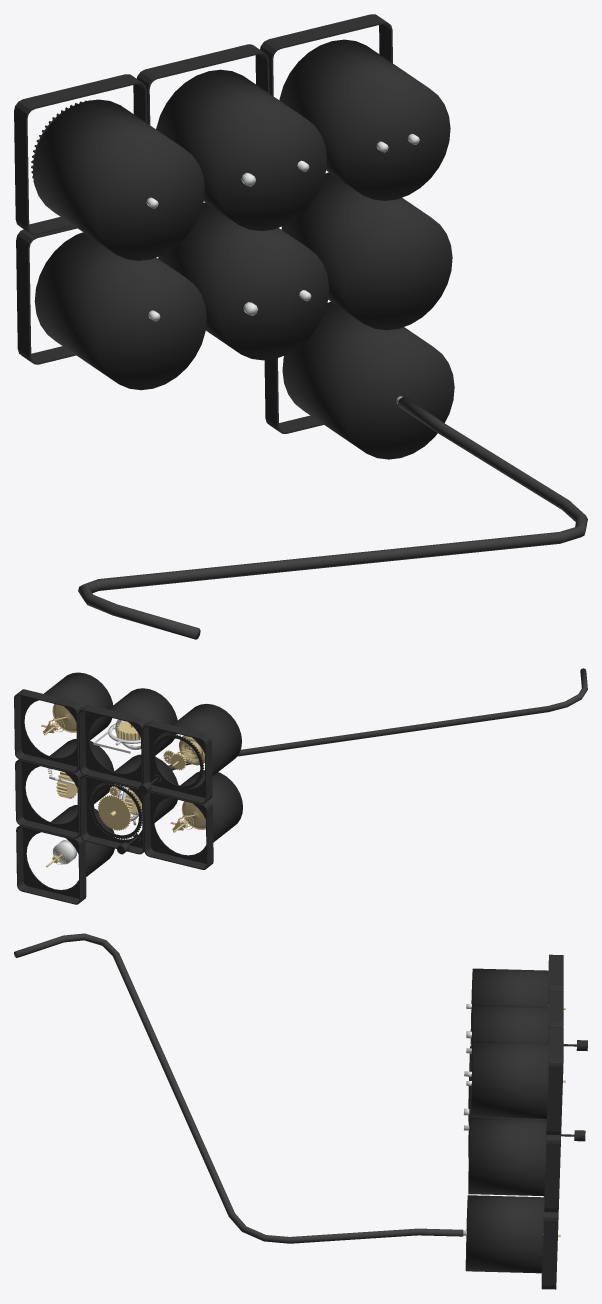
Rendered from INSTRUMENTS.glb.
The picture shows the model from 3 angles, top to bottom: view 1: azimuth 30°, elevation 25°; view 2: azimuth 150°, elevation 25°; view 3: azimuth 270°, elevation 25°; orthographic projection. The views are drawn at different scales.
Parts seen in each view (by area): view 1: PANEL.ALT.case, PANEL.VSI.case, PANEL.ASI.case, PANEL.AI.case, PANEL.TACH.case, PANEL.TC.case, PANEL.DG.case, PANEL.TACH.drive_cable; view 2: PANEL.ALT.case, PANEL.ASI.case, PANEL.VSI.case, PANEL.AI.case, PANEL.TACH.case, PANEL.TC.case, PANEL.DG.case, PANEL.TACH.drive_cable, PANEL.DG.card_gears, PANEL.ALT.baro_adjust, PANEL.DG.setting_knob, PANEL.ASI.capsule (+5 smaller); view 3: PANEL.ASI.case, PANEL.TACH.case, PANEL.TC.case, PANEL.TACH.drive_cable, PANEL.AI.case, PANEL.ALT.case.
Part boxes in pixels (left/top/right/bottom): PANEL.ALT.case: left=14, top=74, right=204, bottom=260; PANEL.VSI.case: left=16, top=226, right=206, bottom=390; PANEL.ASI.case: left=260, top=14, right=450, bottom=200; PANEL.AI.case: left=136, top=44, right=326, bottom=230; PANEL.TACH.case: left=264, top=301, right=454, bottom=459; PANEL.TC.case: left=281, top=172, right=452, bottom=330; PANEL.DG.case: left=158, top=202, right=328, bottom=360; PANEL.TACH.drive_cable: left=78, top=397, right=587, bottom=639; PANEL.ALT.case: left=142, top=703, right=241, bottom=803; PANEL.ASI.case: left=14, top=672, right=113, bottom=772; PANEL.VSI.case: left=143, top=770, right=242, bottom=869; PANEL.AI.case: left=78, top=688, right=177, bottom=788; PANEL.TACH.case: left=16, top=805, right=115, bottom=904; PANEL.TC.case: left=15, top=739, right=114, bottom=838; PANEL.DG.case: left=79, top=754, right=178, bottom=854; PANEL.TACH.drive_cable: left=168, top=668, right=587, bottom=770; PANEL.DG.card_gears: left=98, top=785, right=131, bottom=830; PANEL.ALT.baro_adjust: left=139, top=734, right=204, bottom=793; PANEL.DG.setting_knob: left=90, top=783, right=142, bottom=854; PANEL.ASI.capsule: left=52, top=704, right=76, bottom=732; PANEL.ASI.case: left=470, top=1027, right=563, bottom=1135; PANEL.TACH.case: left=465, top=1195, right=558, bottom=1289; PANEL.TC.case: left=468, top=1118, right=560, bottom=1212; PANEL.TACH.drive_cable: left=14, top=933, right=463, bottom=1243; PANEL.AI.case: left=470, top=990, right=563, bottom=1080; PANEL.ALT.case: left=470, top=954, right=563, bottom=1044.
Bounding box in the file's own units: 0.5325 × 0.2813 × 0.6335.
